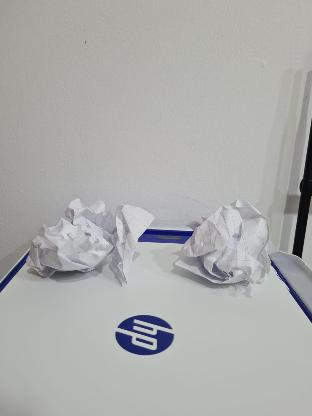Paper: (29, 197, 151, 286), (185, 197, 273, 295)
